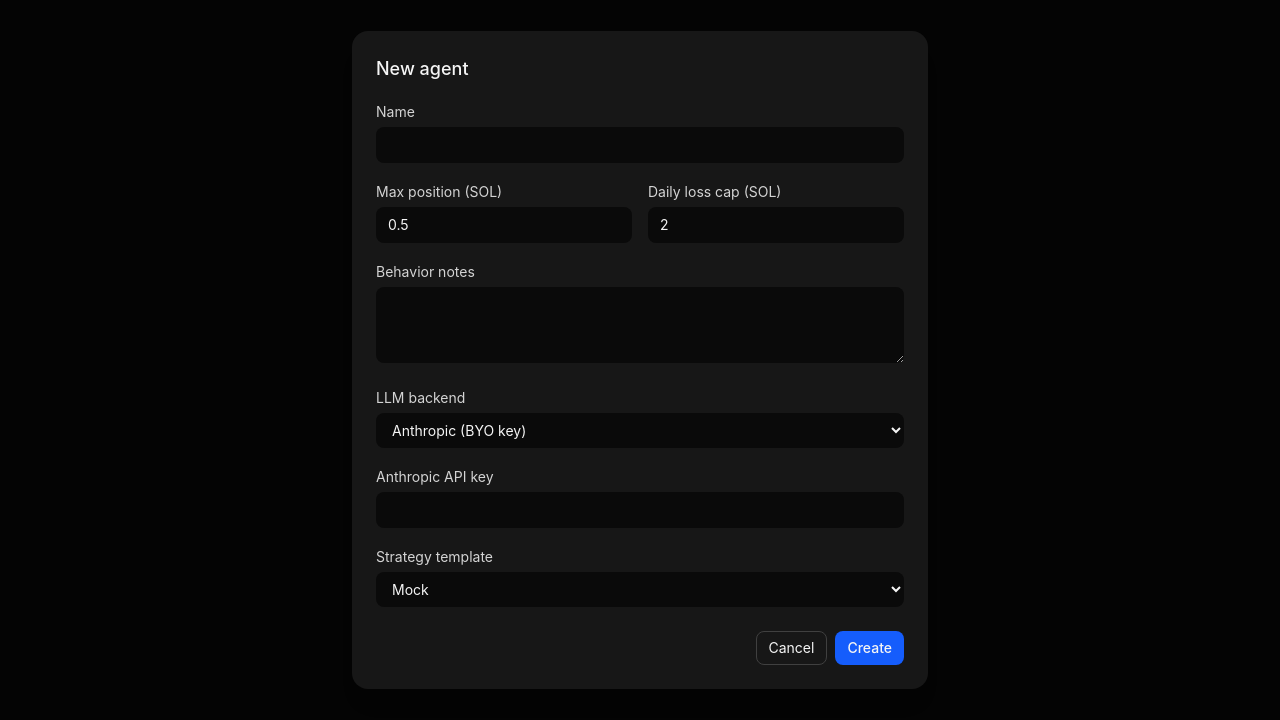
Test: <AgentConfigForm /> › does not show API key field when mantic-proxy chosen
Select "Mantic proxy" in the dropdown labelled "LLM backend": [640, 430] box [376, 413, 904, 448]
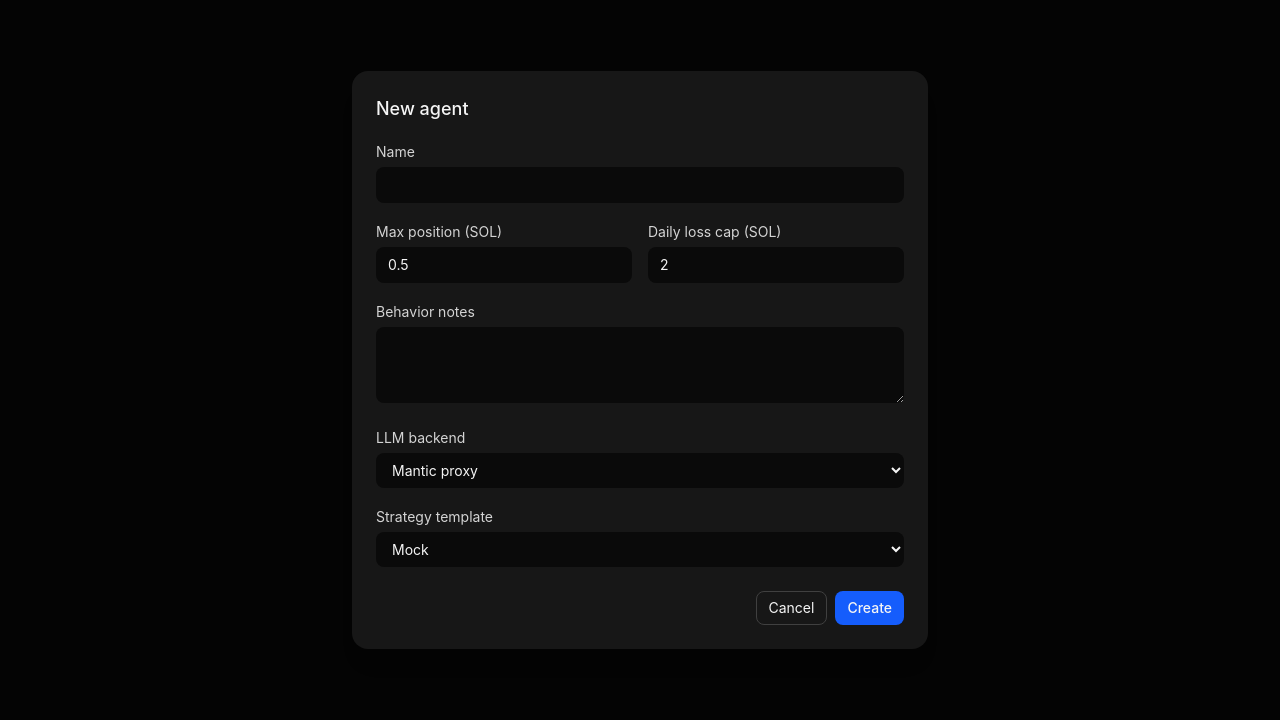
Now the text labelled "Anthropic API key" is gone
